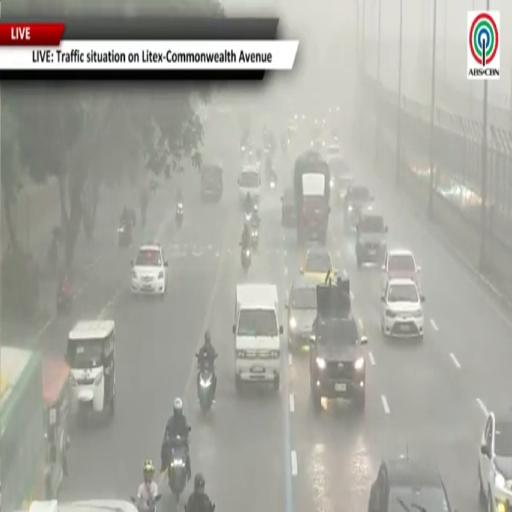bus: (0, 346, 45, 511)
car: (310, 278, 367, 412), (310, 314, 367, 411), (369, 457, 452, 511), (478, 410, 512, 512), (381, 279, 424, 340), (286, 277, 316, 349), (356, 205, 387, 267), (131, 244, 167, 296), (381, 249, 421, 291), (344, 185, 374, 231), (301, 246, 335, 282), (238, 165, 261, 204), (282, 187, 296, 228), (327, 143, 341, 157)
motorcycle: (168, 436, 187, 502), (196, 355, 214, 412), (56, 282, 73, 314), (131, 494, 161, 511), (118, 222, 131, 247), (175, 202, 184, 228), (241, 248, 251, 271), (251, 224, 258, 249), (244, 211, 253, 223), (270, 175, 276, 190), (209, 504, 215, 511)
truck: (294, 151, 330, 244)
